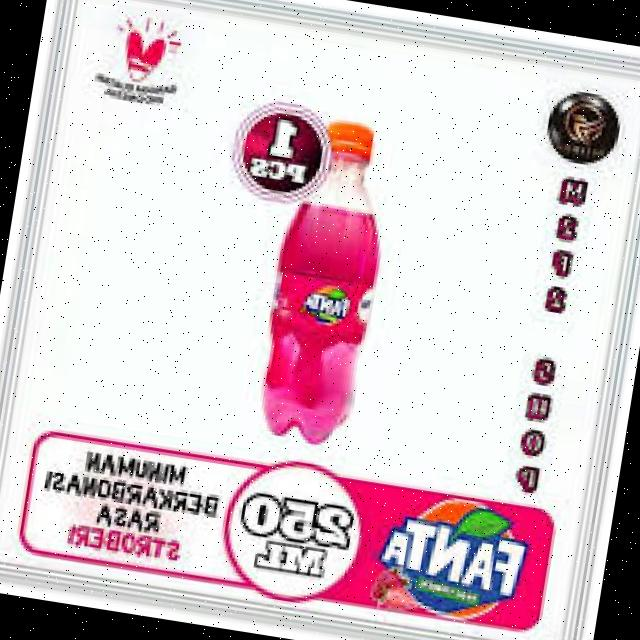bottle: (252, 113, 401, 448)
cap: (318, 120, 374, 169)
label: (264, 270, 385, 346)
